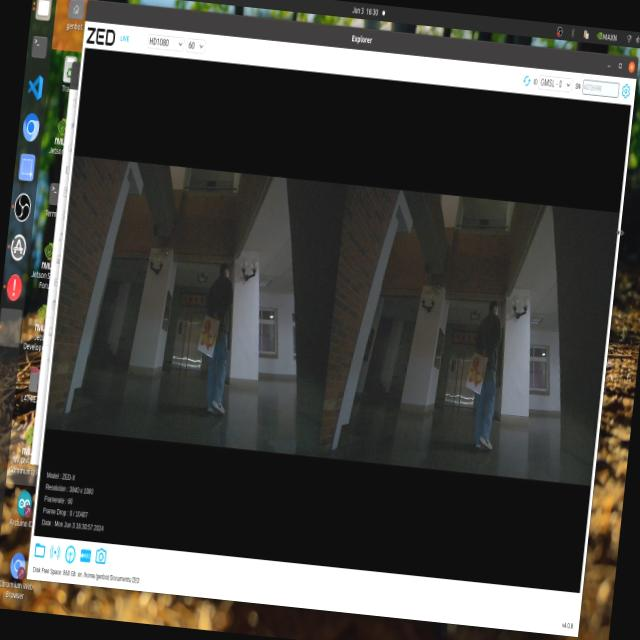red: (462, 346, 496, 399), (197, 311, 228, 359)
